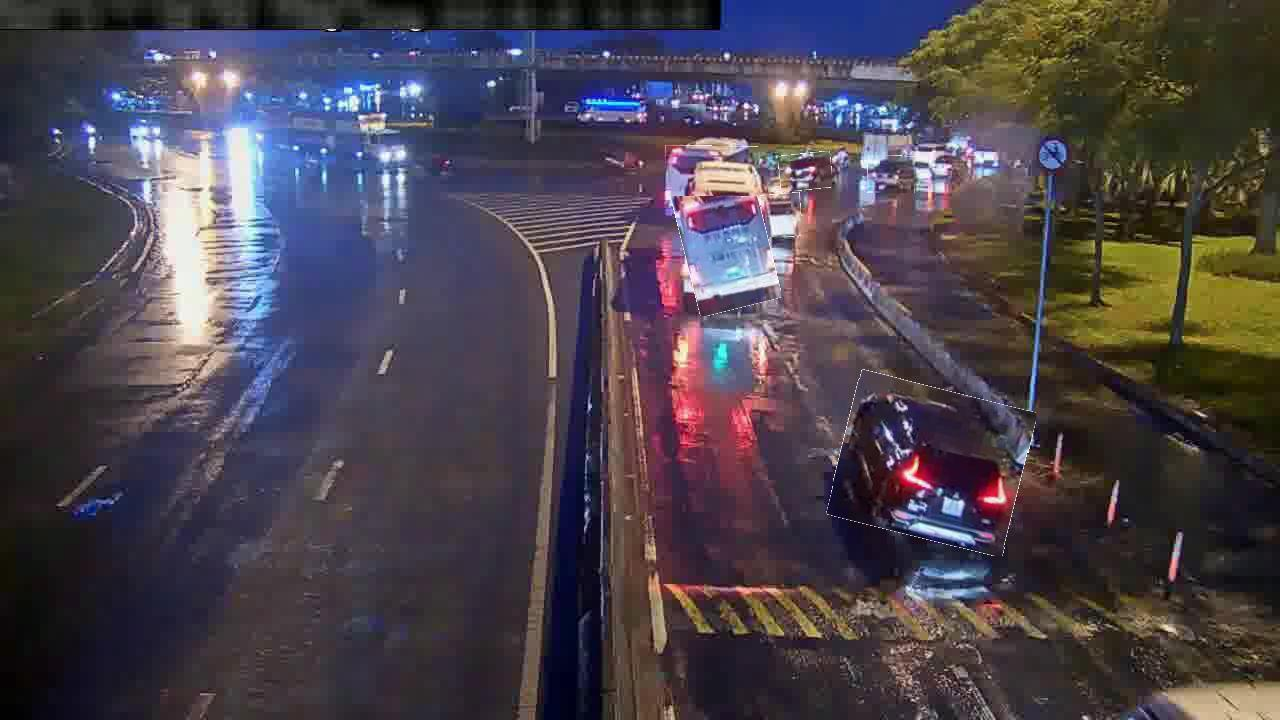14: (677, 171, 775, 313), (665, 146, 759, 197)
container: (834, 379, 1030, 548), (779, 153, 833, 191), (761, 193, 802, 238), (868, 156, 916, 194)
